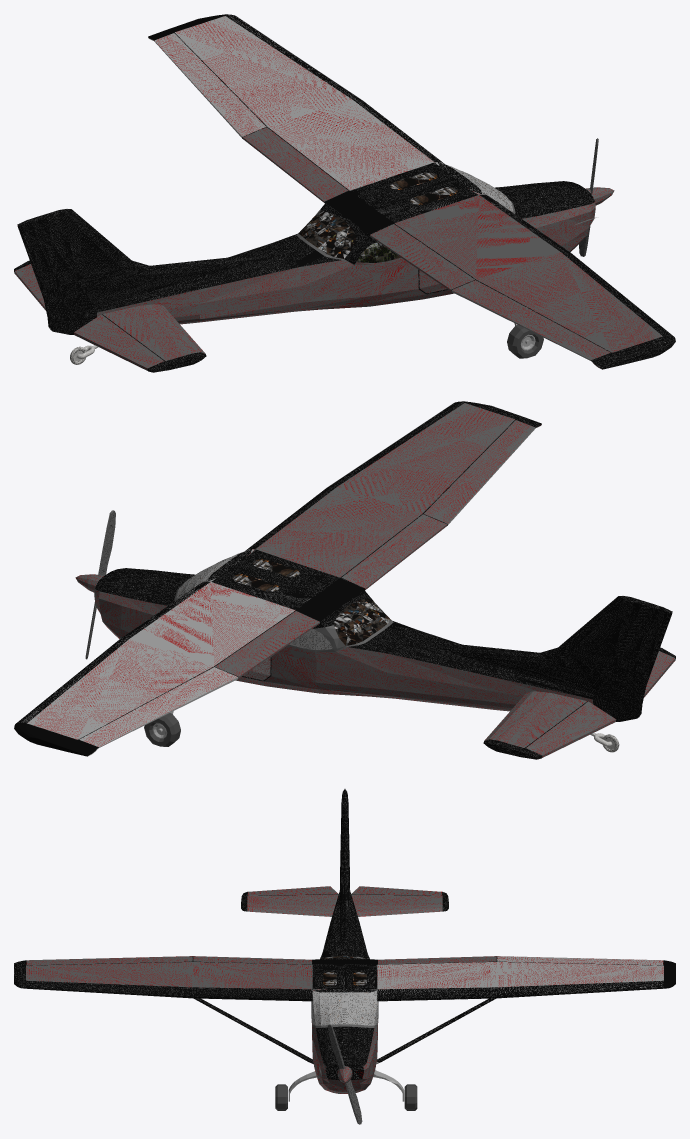
The picture shows the model from 3 angles, top to bottom: view 1: azimuth 30°, elevation 25°; view 2: azimuth 150°, elevation 25°; view 3: azimuth 270°, elevation 25°; orthographic projection. The views are drawn at different scales.
Parts seen in each view (by area): view 1: mesh1.002_mesh1-geometry, mesh2.002_mesh2-geometry, mesh23.003_mesh23-geometry, mesh3.002_mesh3-geometry; view 2: mesh1.002_mesh1-geometry, mesh3.002_mesh3-geometry, mesh22.003_mesh22-geometry, mesh2.002_mesh2-geometry, mesh7.002_mesh7-geometry; view 3: mesh1.002_mesh1-geometry, mesh3.002_mesh3-geometry, mesh2.002_mesh2-geometry, mesh6.002_mesh6-geometry, mesh5.002_mesh5-geometry.
Part boxes in pixels (left/top/right/bottom): mesh1.002_mesh1-geometry: left=17, top=14, right=675, bottom=369; mesh2.002_mesh2-geometry: left=73, top=304, right=206, bottom=372; mesh23.003_mesh23-geometry: left=507, top=324, right=543, bottom=358; mesh3.002_mesh3-geometry: left=14, top=260, right=45, bottom=310; mesh1.002_mesh1-geometry: left=14, top=401, right=672, bottom=756; mesh3.002_mesh3-geometry: left=483, top=691, right=616, bottom=759; mesh22.003_mesh22-geometry: left=144, top=713, right=180, bottom=746; mesh2.002_mesh2-geometry: left=644, top=647, right=675, bottom=697; mesh7.002_mesh7-geometry: left=98, top=510, right=115, bottom=575; mesh1.002_mesh1-geometry: left=14, top=789, right=675, bottom=1093; mesh3.002_mesh3-geometry: left=351, top=886, right=448, bottom=916; mesh2.002_mesh2-geometry: left=241, top=886, right=338, bottom=916; mesh6.002_mesh6-geometry: left=376, top=998, right=496, bottom=1063; mesh5.002_mesh5-geometry: left=193, top=998, right=313, bottom=1063.
Bounding box in the file's own units: 0.5919 × 0.2053 × 0.7795.
